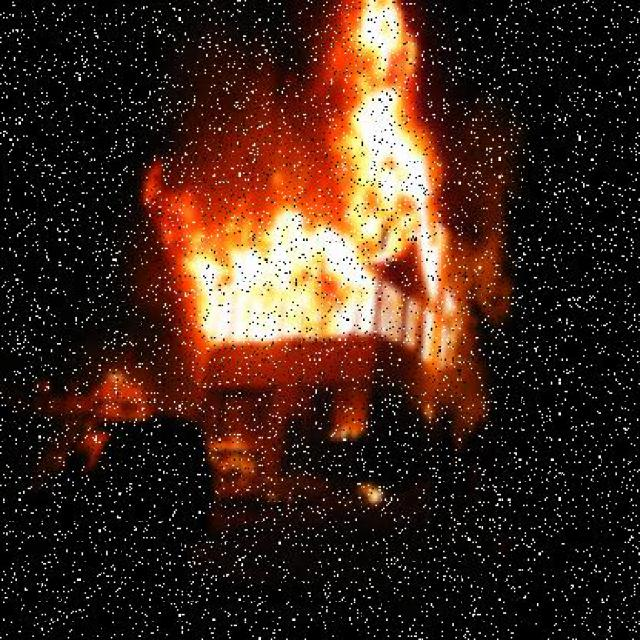fire: (118, 1, 495, 386)
